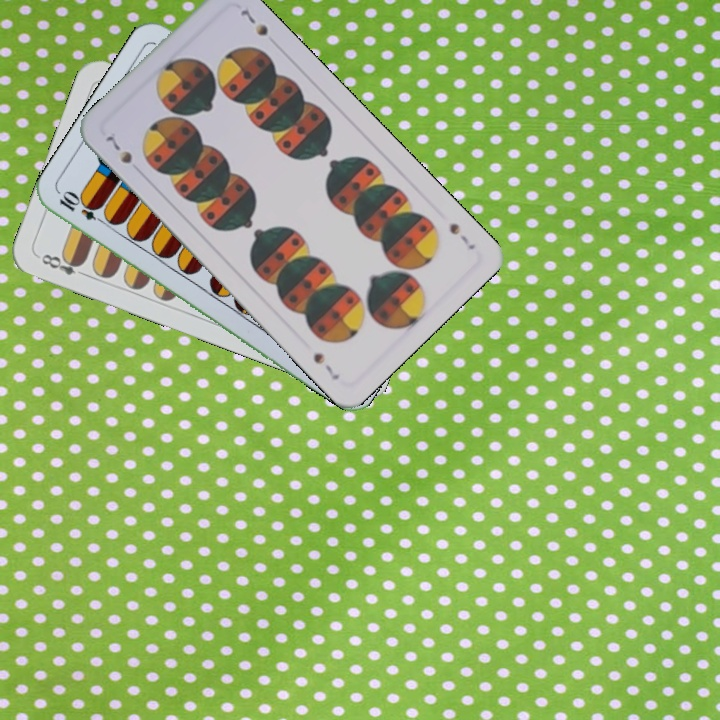E10: (55, 188, 111, 228)
E8: (37, 250, 91, 280)
S7: (101, 132, 135, 167), (445, 219, 478, 253)
